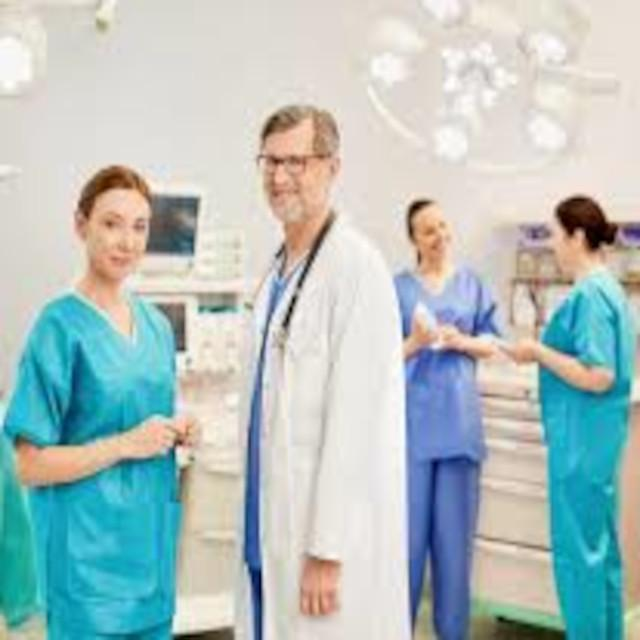kobieta: (11, 159, 211, 640), (381, 183, 507, 640), (522, 186, 640, 640)
mezczyzna: (242, 98, 415, 640)
